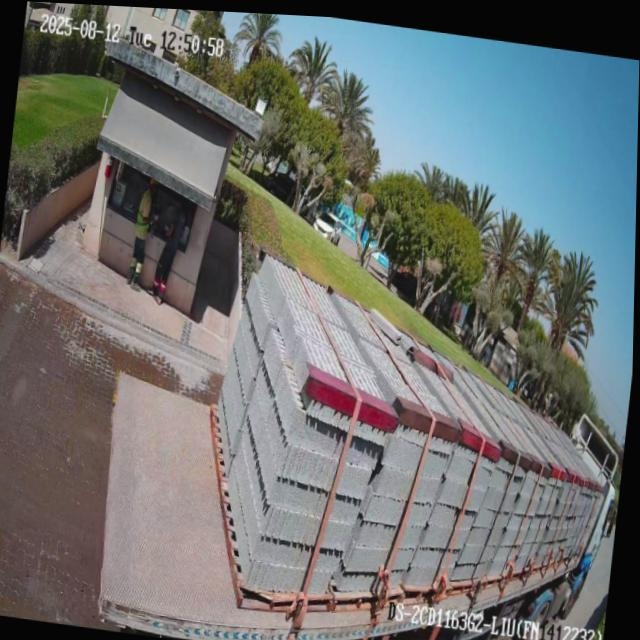bricks: (218, 256, 591, 594)
